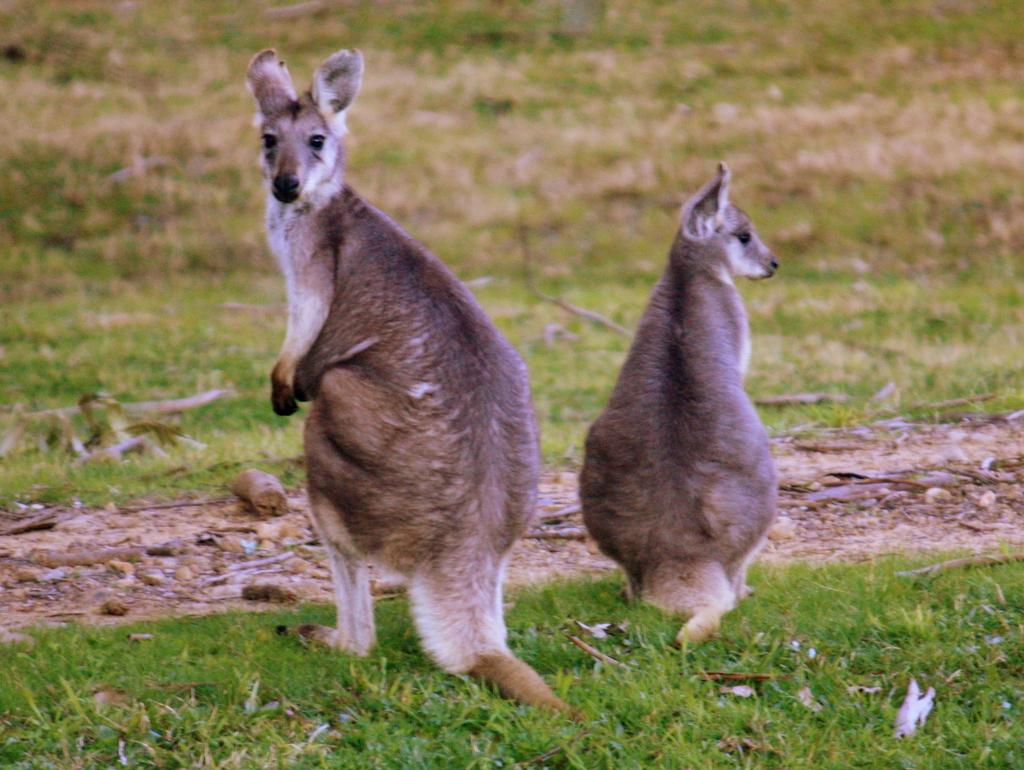kangaroo: (241, 52, 580, 728), (572, 160, 776, 655)
